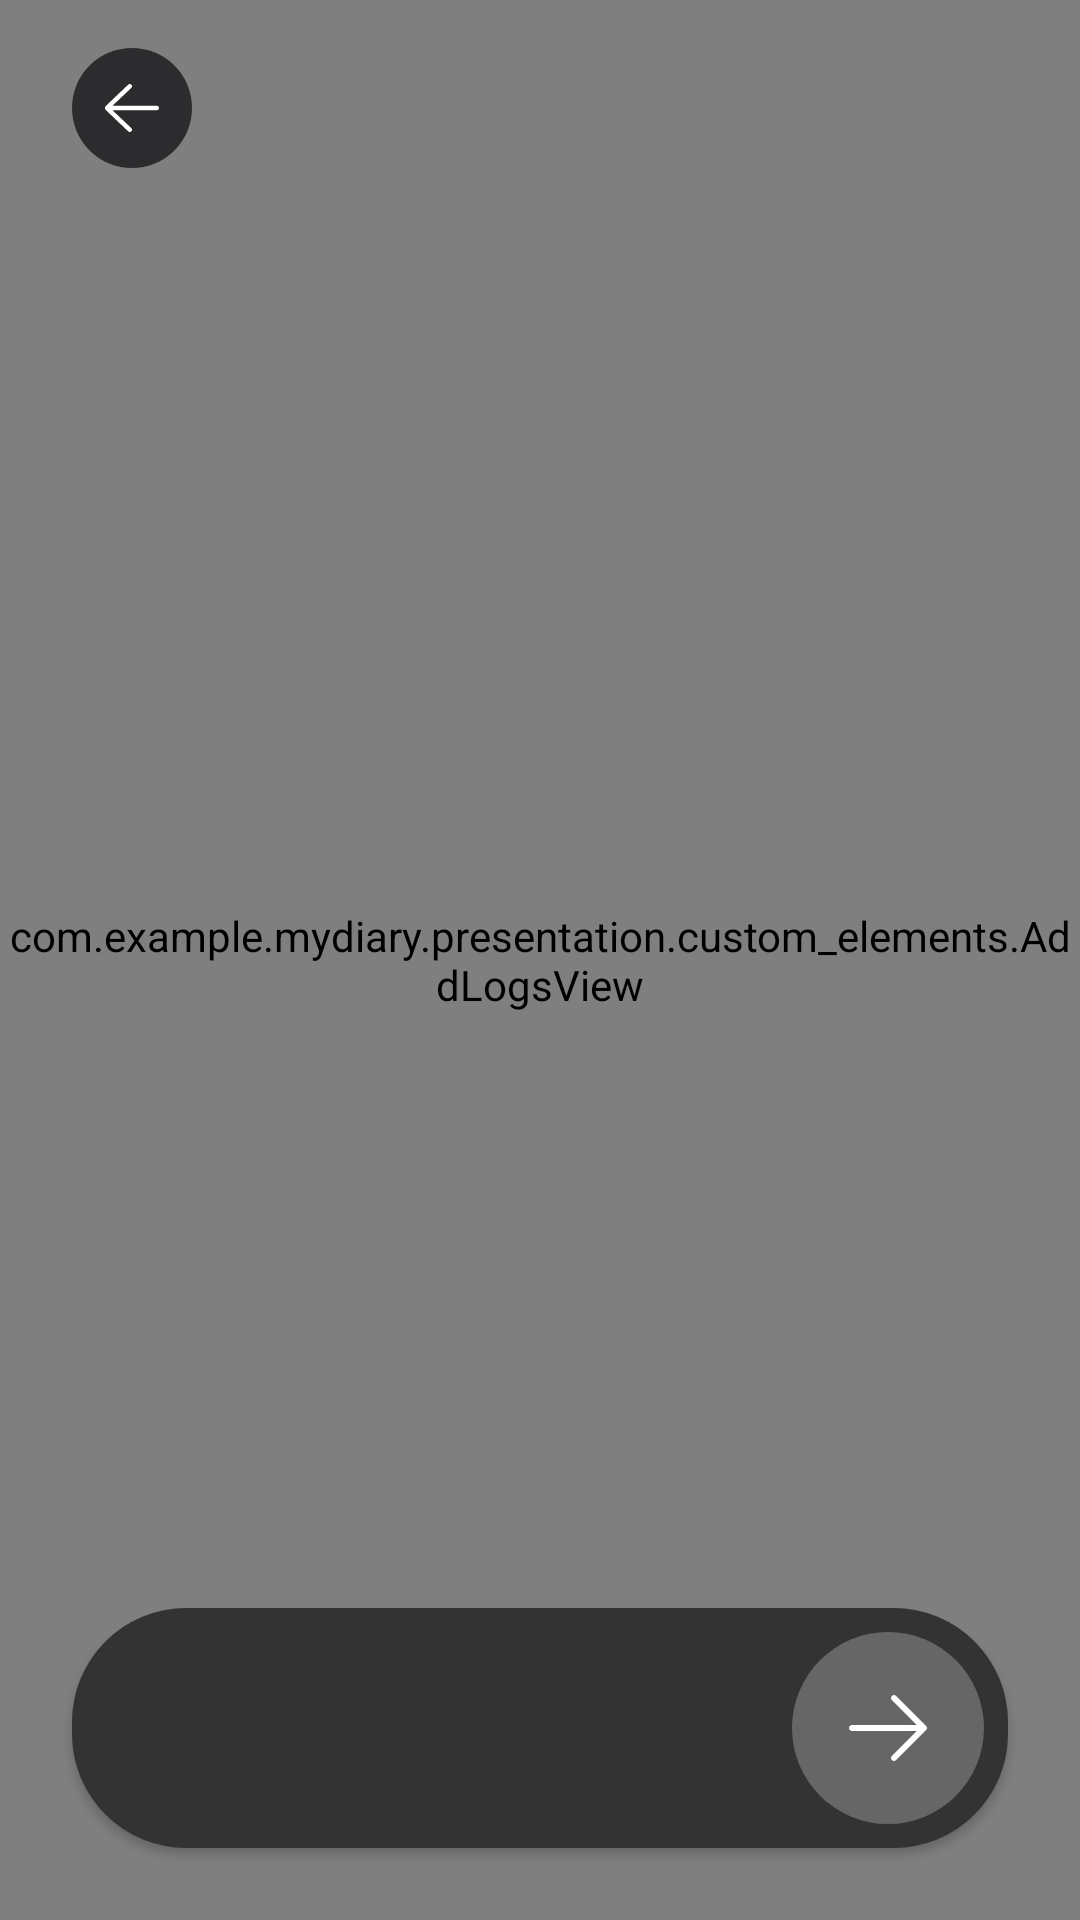

Icon click points for this 1080 × 1920 phone screenshot, format (x=x, y=y):
notes back: (x=132, y=108)
